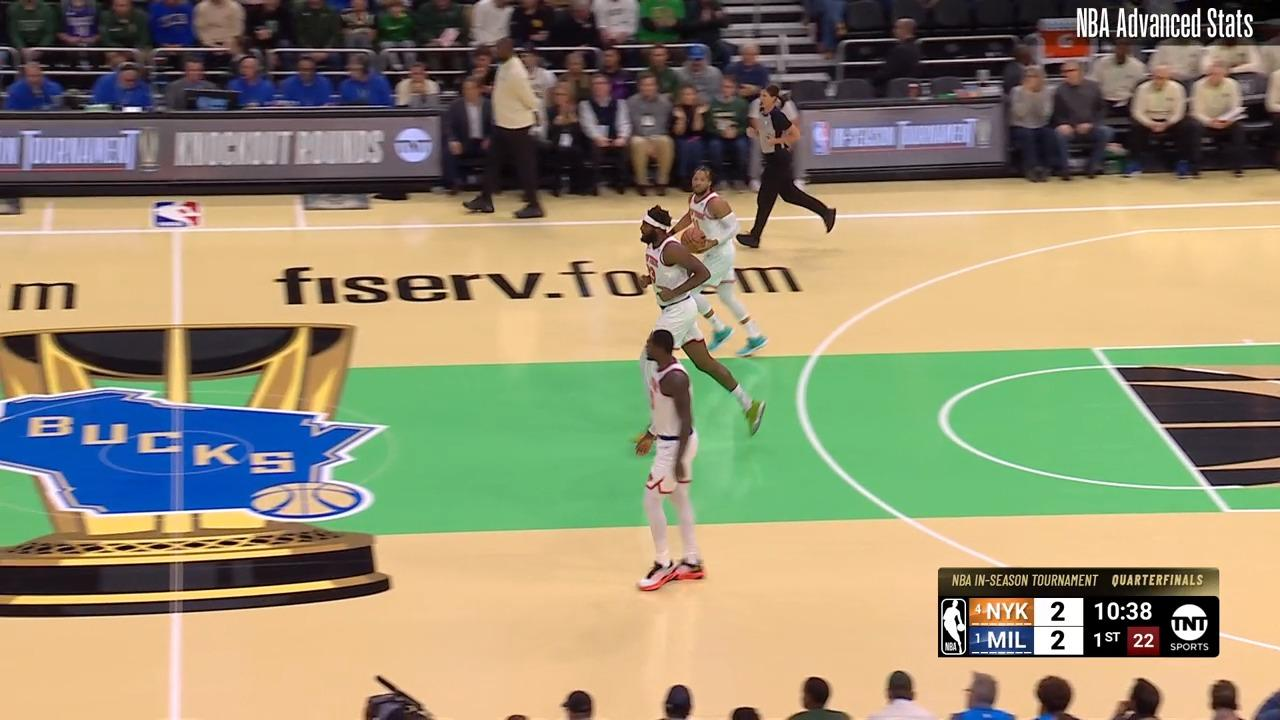Ball: (680, 228, 706, 253)
Person: (641, 201, 773, 463), (620, 325, 722, 590), (663, 164, 771, 357)
Referee: (738, 79, 845, 247)
